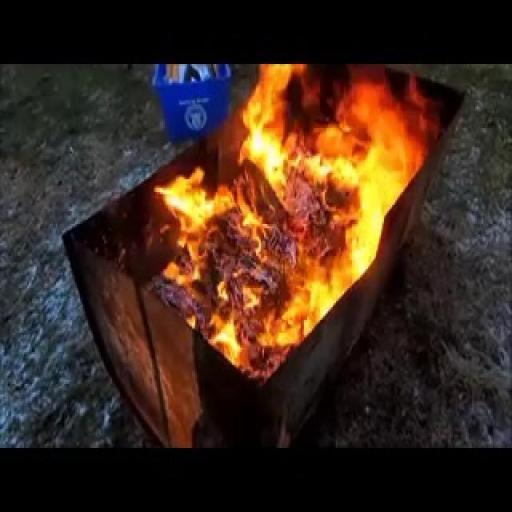smoke: (150, 66, 415, 388)
